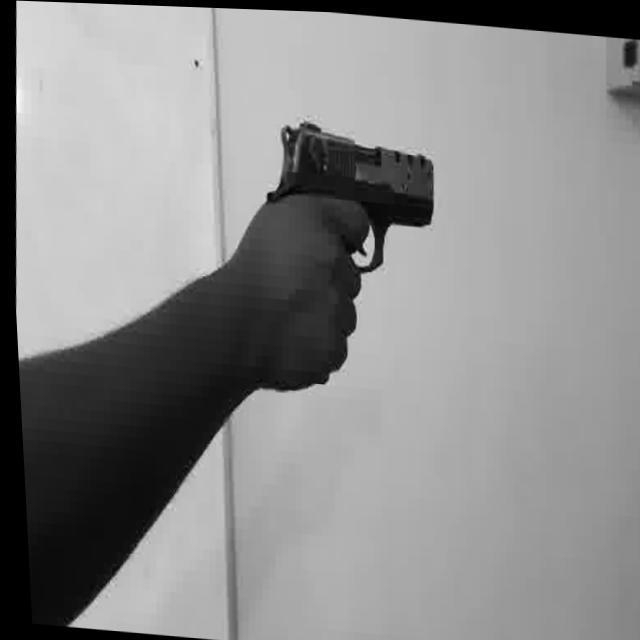weapon: (4, 91, 455, 640)
